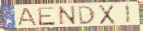A: (15, 7, 39, 27)
D: (77, 5, 97, 26)
E: (37, 6, 57, 26)
I: (125, 4, 132, 25)
N: (58, 5, 78, 26)
X: (98, 4, 117, 26)
